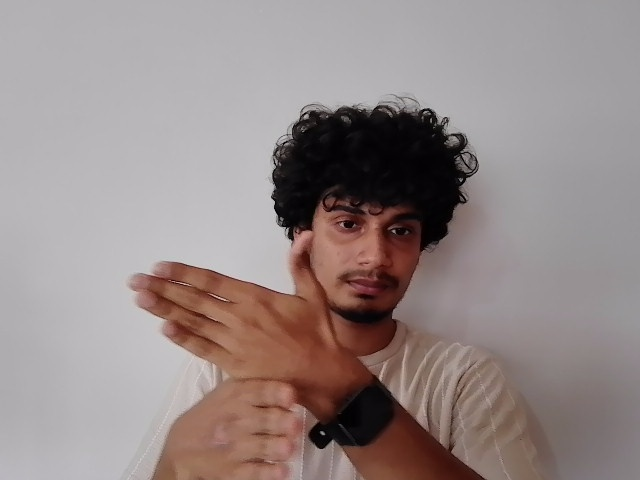busy: (126, 232, 334, 479)
